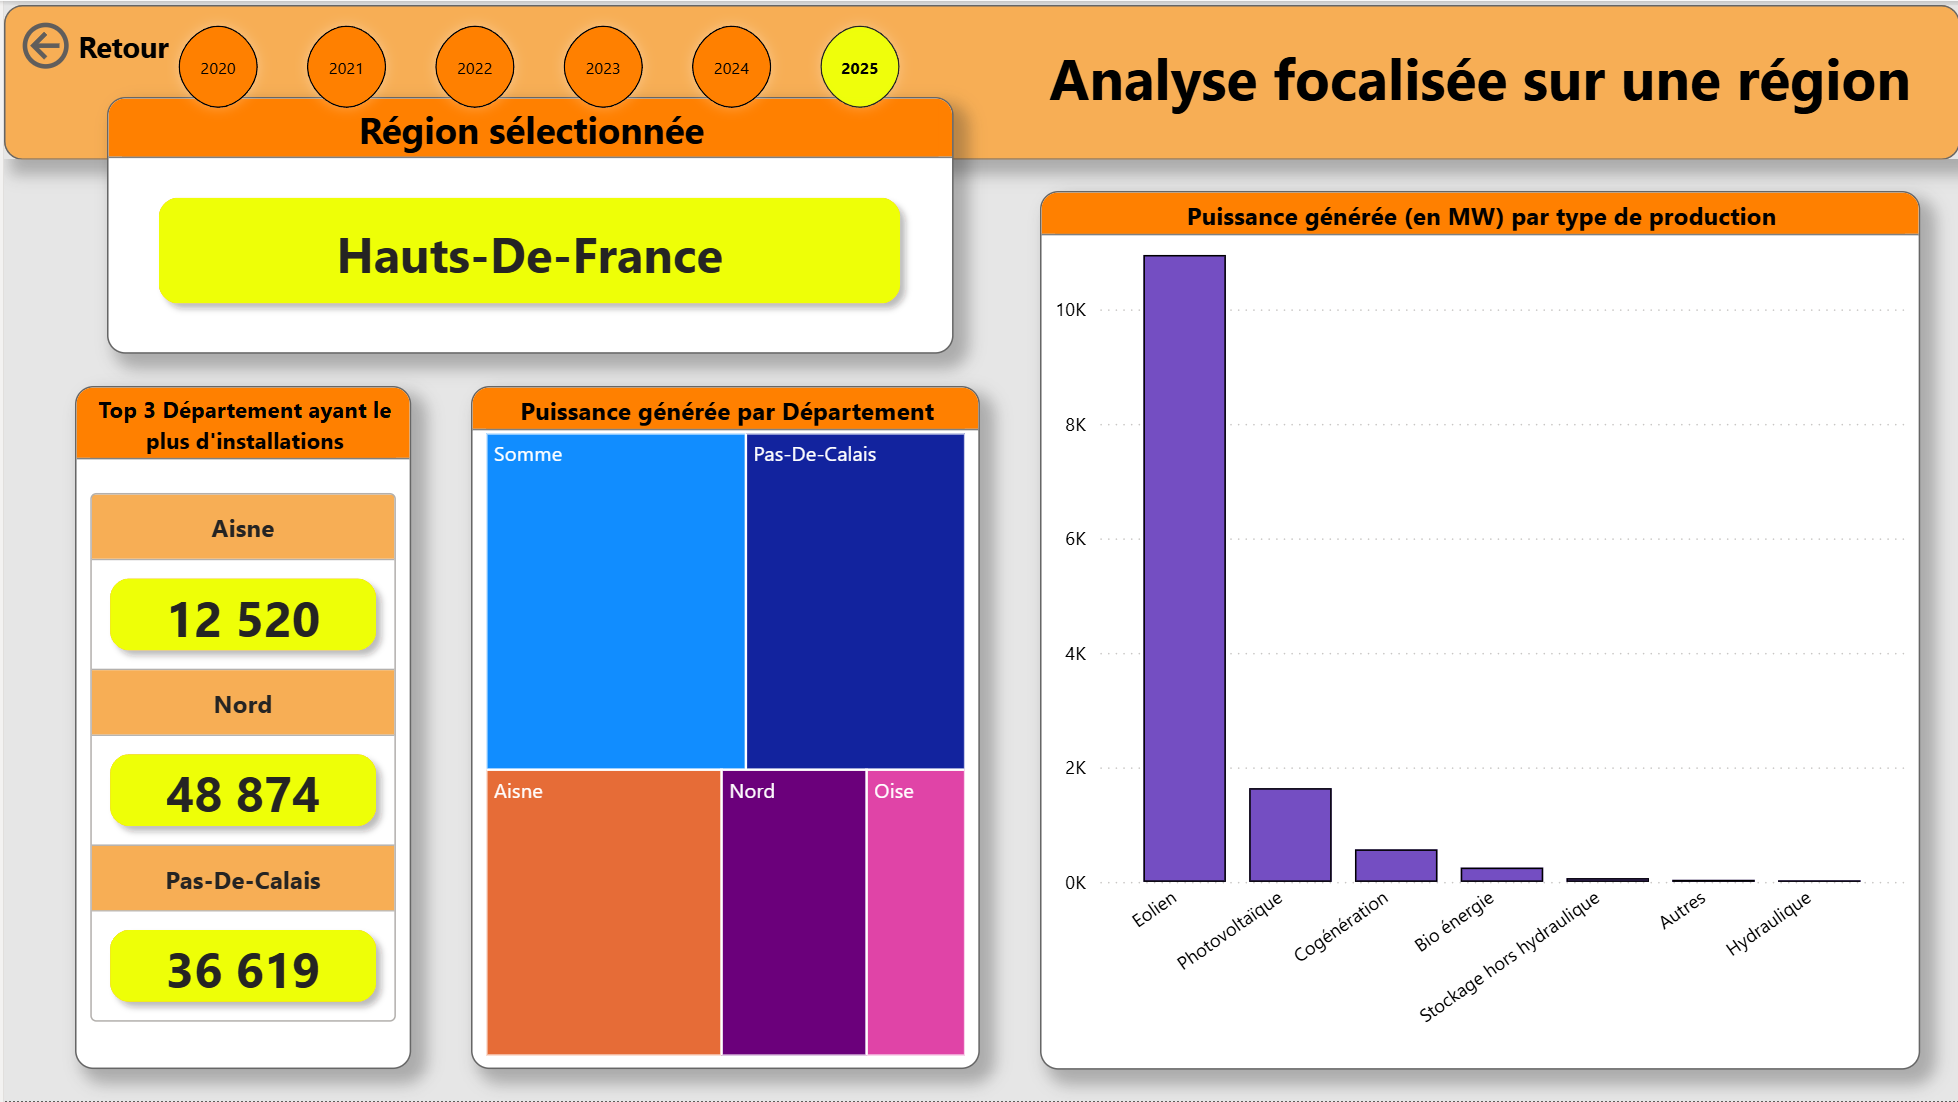

This screenshot's page, from the dashboard's own definition file:
{"tool":"powerbi","page":{"name":"Détails par Région","canvas":[1280,720],"ordinal":1},"visuals":[{"type":"shape","box":[0,2.5,1280,101.4],"z":0},{"type":"cardVisual","title":"Région sélectionnée","fields":{"Data":["Min(Production énergie renouvelable.REGION)"]},"box":[67.2,62.6,553.6,168.1],"z":1000},{"type":"treemap","title":"Puissance générée par Département","fields":{"Group":["Production énergie renouvelable.NOM DEPARTEMENT"],"Values":["Sum(Production énergie renouvelable.PUISSANCE MW)"]},"box":[305.8,252.1,333.3,447.2],"z":2000},{"type":"columnChart","title":"Puissance générée (en MW) par type de production","fields":{"Category":["Production énergie renouvelable.TYPE PRODUCTION"],"Y":["Sum(Production énergie renouvelable.PUISSANCE MW)"]},"box":[677.8,124.2,576,575.1],"z":3000},{"type":"cardVisual","title":"Top 3 Département ayant le plus d''installations","fields":{"Rows":["Production énergie renouvelable.NOM DEPARTEMENT"],"Data":["Sum(Production énergie renouvelable.NOMBRE INSTALLATIONS)"]},"box":[46.7,252.1,220.3,447.2],"z":4000},{"type":"textbox","box":[677.8,19.6,576,67.2],"z":5000},{"type":"textbox","box":[36.4,12.1,83.1,35.5],"z":6000},{"type":"actionButton","box":[7.5,9.3,105.5,40.1],"z":7000},{"type":"advancedSlicerVisual","fields":{"Values":["Calendrier.Date.Variation.Hiérarchie de dates.Année"]},"box":[98,0,507.9,86.8],"z":8000}]}

Visuals, with their boxes in screenshot pixels (x1, y1, x2, y2), scaled from the page's 1280x720 canvas onto the 1958x1102 screenshot:
shape: bbox=[0, 4, 1957, 159]
"Région sélectionnée" cardVisual: bbox=[103, 96, 950, 353]
"Puissance générée par Département" treemap: bbox=[468, 386, 978, 1070]
"Puissance générée (en MW) par type de production" columnChart: bbox=[1037, 190, 1918, 1070]
"Top 3 Département ayant le plus d''installations" cardVisual: bbox=[71, 386, 408, 1070]
textbox: bbox=[1037, 30, 1918, 133]
textbox: bbox=[56, 19, 183, 73]
actionButton: bbox=[11, 14, 173, 76]
advancedSlicerVisual - Calendrier.Date.Variation.Hiérarchie de dates.Année: bbox=[150, 0, 927, 133]
